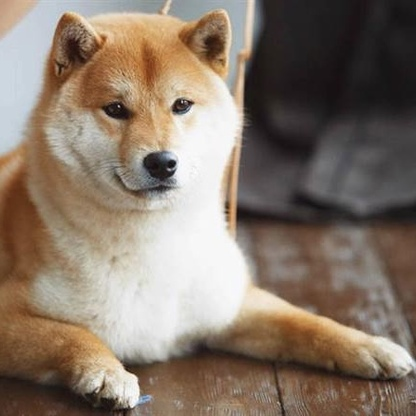shiba: (1, 5, 416, 411)
